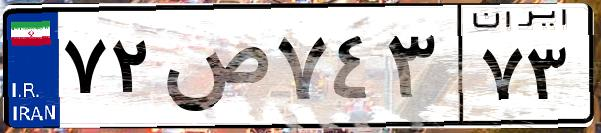2: (110, 28, 158, 98)
3: (385, 28, 445, 110), (525, 38, 570, 115)
4: (330, 28, 385, 110)
7: (270, 28, 330, 110), (57, 26, 110, 100), (475, 38, 525, 113)
ص: (158, 20, 270, 120)
